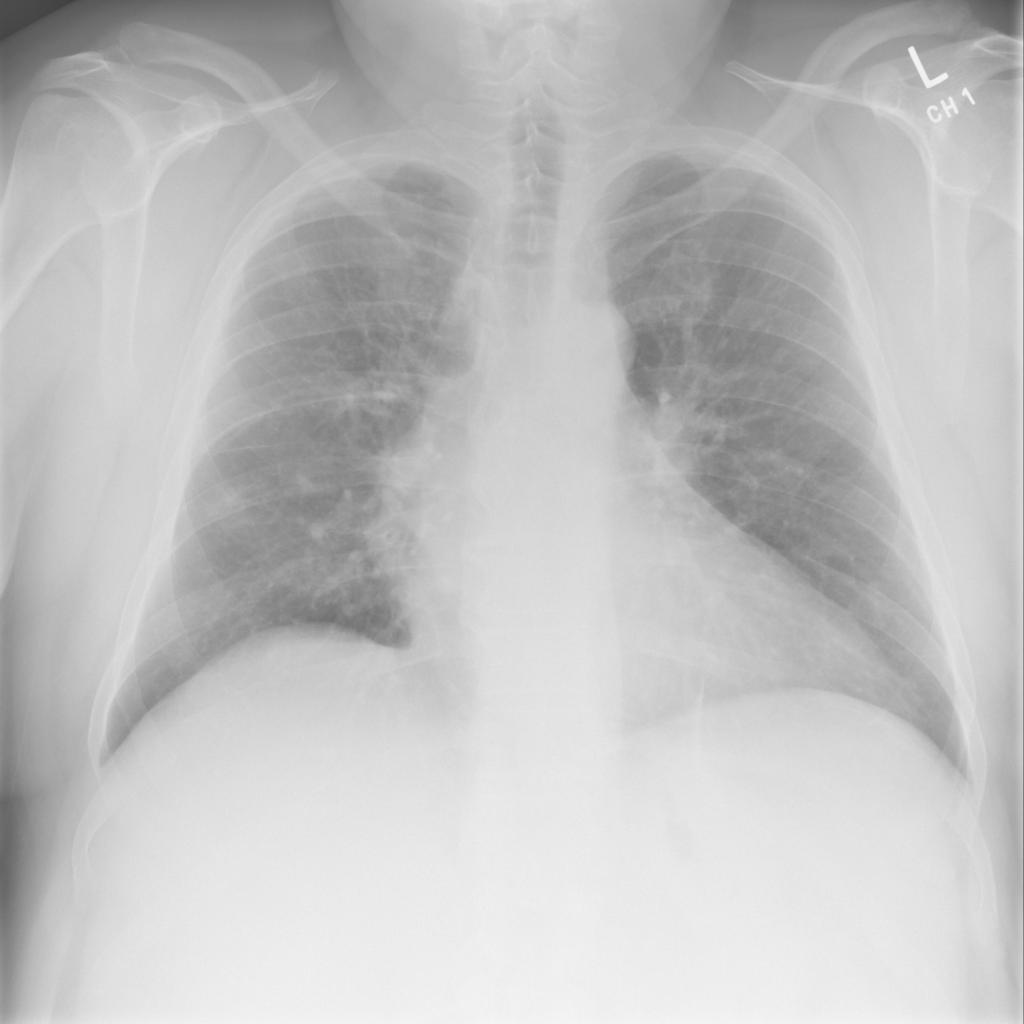Nodule: (60, 165, 78, 182), (192, 181, 206, 193)
